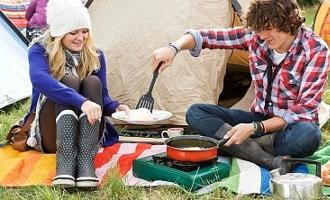person: (150, 1, 330, 175)
